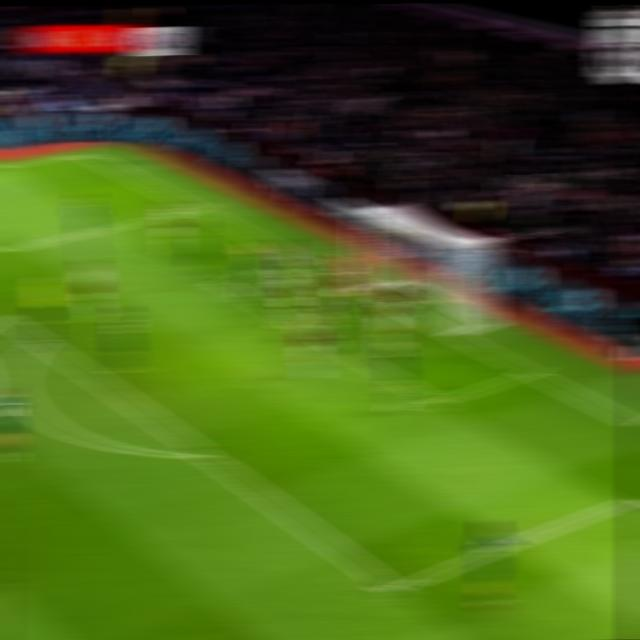bigarea_bottom_inner: (373, 571, 413, 607)
bigarea_top_outter: (181, 198, 209, 216)
bottom_arc_area_intersection: (188, 438, 224, 470)
corner: (66, 144, 99, 162)
smallarea_bottom_inner: (419, 384, 456, 416)
smallarea_bottom_outter: (512, 358, 545, 384)
smallarea_top_inner: (204, 269, 234, 293)
smallarea_top_outter: (288, 250, 316, 271)
top_arc_area_intersection: (23, 328, 57, 355)
